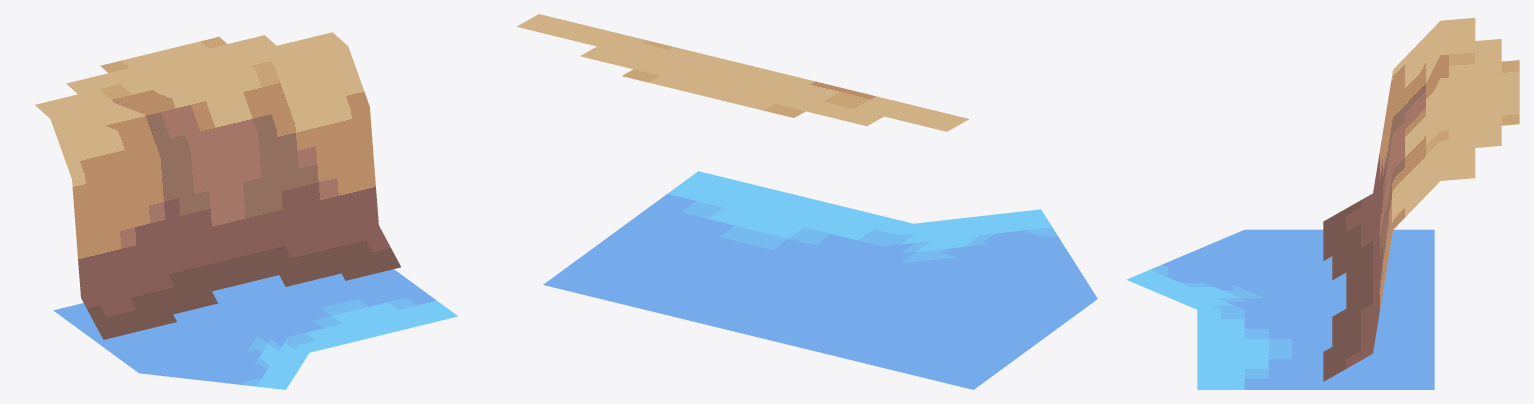
3 views of the same model, side by side, from view 1: azimuth 30°, elevation 25°; view 2: azimuth 150°, elevation 25°; view 3: azimuth 270°, elevation 25° (orthographic). The views are drawn at different scales.
Size of the model in its own units: 1 by 0.627 by 1.04.
2 materials, 2 textured.
